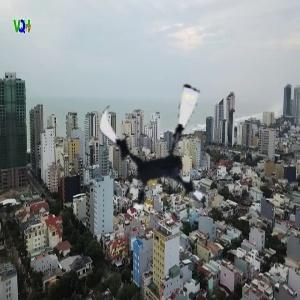drone: (94, 80, 227, 213)
